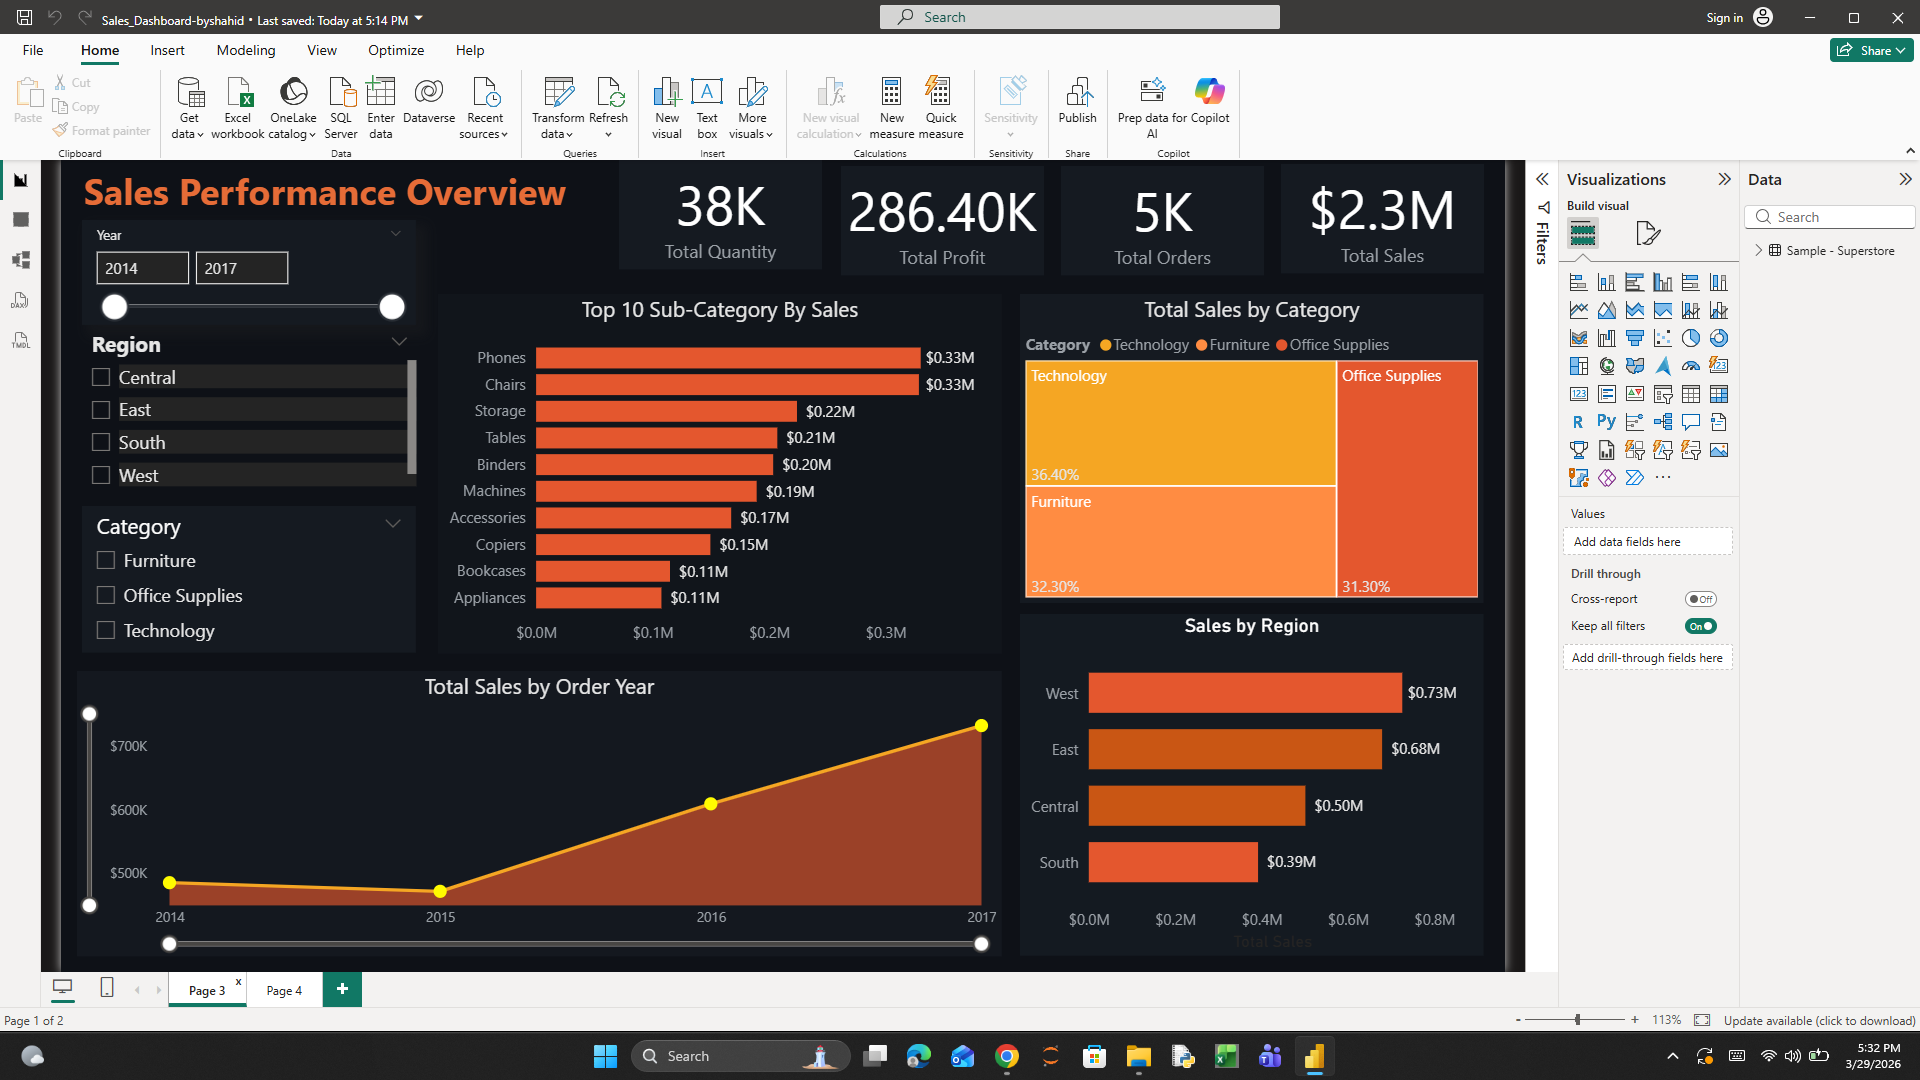

What the dashboard file says about the page in this screenshot:
{"tool":"powerbi","page":{"name":"Page 3","canvas":[1280,720],"ordinal":0},"visuals":[{"type":"slicer","fields":{"Values":["Sample - Superstore.Order Year"]},"box":[18.6,52.9,295.7,92.9],"z":0},{"type":"slicer","fields":{"Values":["Sample - Superstore.Category"]},"box":[18.6,307.1,295.7,130],"z":1000},{"type":"card","fields":{"Values":["Sample - Superstore.Total Quantity"]},"box":[495,0,180,96.7],"z":2000},{"type":"card","fields":{"Values":["Sample - Superstore.Total Profit"]},"box":[691.7,5,180,96.7],"z":3000},{"type":"card","fields":{"Values":["Sample - Superstore.Total Orders"]},"box":[886.7,5,180,96.7],"z":4000},{"type":"card","fields":{"Values":["Sample - Superstore.Total Sales"]},"box":[1081.7,3.3,180,96.7],"z":5000},{"type":"clusteredBarChart","title":"Top 10 Sub-Category By Sales","fields":{"Category":["Sample - Superstore.Sub-Category"],"Y":["Sample - Superstore.Total Sales"]},"box":[334.3,118.6,500,318.6],"z":6000},{"type":"treemap","title":"Total Sales by Category","fields":{"Group":["Sample - Superstore.Category"],"Values":["Sample - Superstore.Total Sales"]},"box":[850,118.6,411.4,274.3],"z":7000},{"type":"areaChart","fields":{"Category":["Sample - Superstore.Order Year"],"Y":["Sample - Superstore.Total Sales"]},"box":[14.3,452.9,820,252.9],"z":8000},{"type":"clusteredBarChart","title":"Sales by Region","fields":{"Category":["Sample - Superstore.Region"],"Y":["Sample - Superstore.Total Sales"]},"box":[850,402.9,411.4,302.9],"z":9000},{"type":"slicer","fields":{"Values":["Sample - Superstore.Region"]},"box":[14.3,145.7,305.7,150],"z":10000},{"type":"textbox","box":[15,0,483.3,53.3],"z":11000}]}

Visuals, with their boxes on the page's 1280x720 design canvas (x1, y1, x2, y2). These are canvas units, not pixel positions in the 1920x1080 screenshot, which may show the page scaled, cropped or inside an application window:
slicer - Sample - Superstore.Order Year: bbox=[19, 53, 314, 146]
slicer - Sample - Superstore.Category: bbox=[19, 307, 314, 437]
card - Sample - Superstore.Total Quantity: bbox=[495, 0, 675, 97]
card - Sample - Superstore.Total Profit: bbox=[692, 5, 872, 102]
card - Sample - Superstore.Total Orders: bbox=[887, 5, 1067, 102]
card - Sample - Superstore.Total Sales: bbox=[1082, 3, 1262, 100]
"Top 10 Sub-Category By Sales" clusteredBarChart: bbox=[334, 119, 834, 437]
"Total Sales by Category" treemap: bbox=[850, 119, 1261, 393]
areaChart - Sample - Superstore.Order Year x Sample - Superstore.Total Sales: bbox=[14, 453, 834, 706]
"Sales by Region" clusteredBarChart: bbox=[850, 403, 1261, 706]
slicer - Sample - Superstore.Region: bbox=[14, 146, 320, 296]
textbox: bbox=[15, 0, 498, 53]
